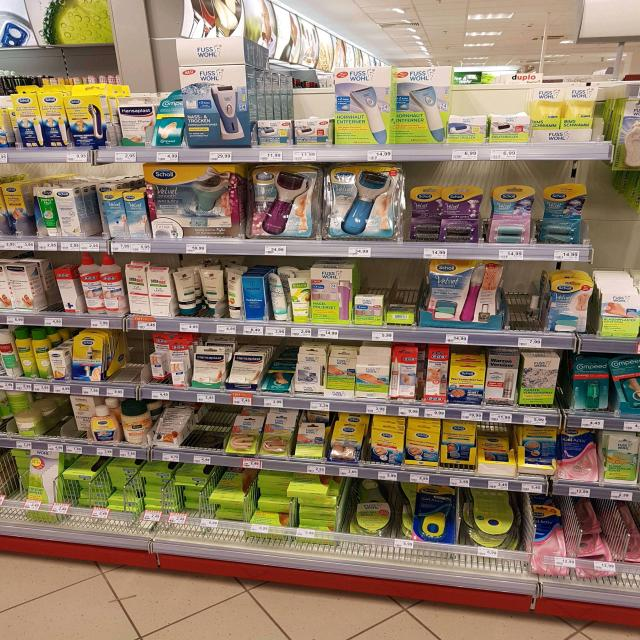empty: (501, 266, 547, 330), (105, 341, 148, 387), (183, 410, 231, 451), (32, 258, 60, 318), (36, 392, 70, 432)
